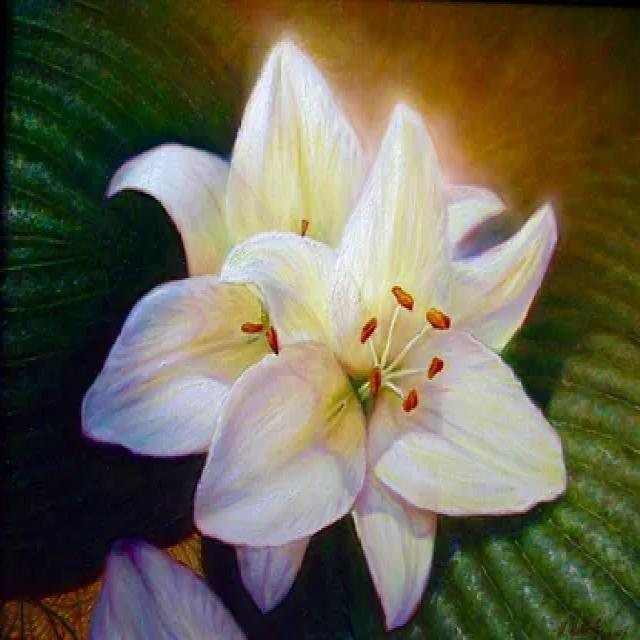lily: (203, 113, 571, 586)
